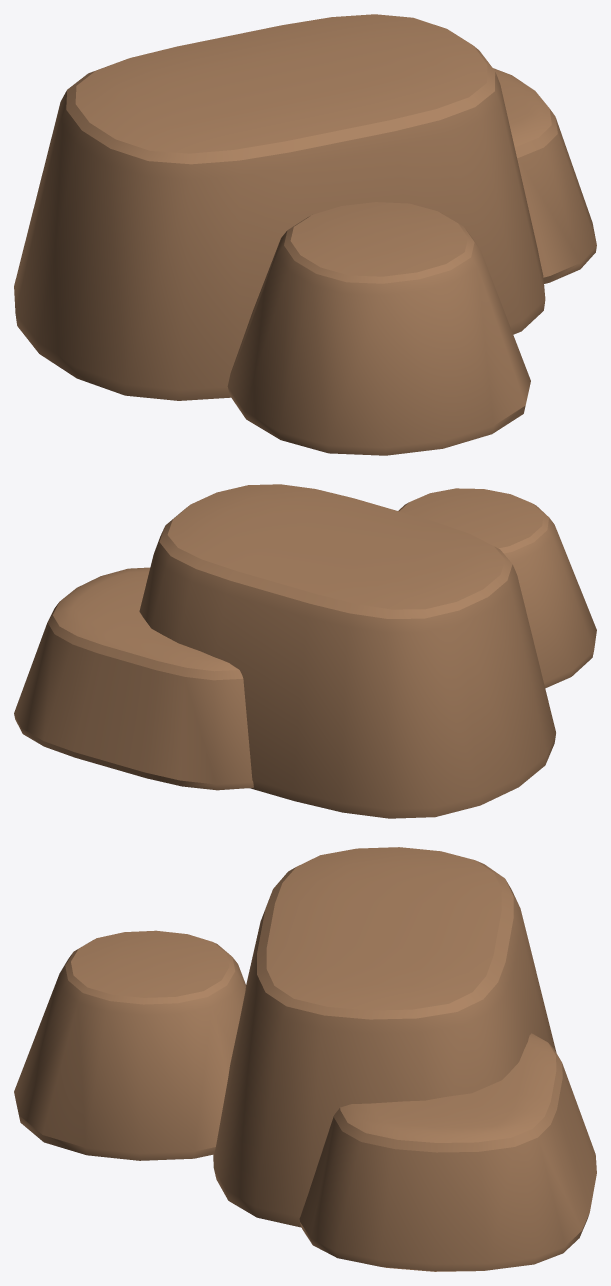
The model's file is RockPlatforms_2.001.fbx.
The picture shows the model from 3 angles, top to bottom: view 1: azimuth 30°, elevation 25°; view 2: azimuth 150°, elevation 25°; view 3: azimuth 270°, elevation 25°; orthographic projection. The views are drawn at different scales.
Parts seen in each view (by area): view 1: RockPlatforms_2.001; view 2: RockPlatforms_2.001; view 3: RockPlatforms_2.001.
Part boxes in pixels (x1=…): RockPlatforms_2.001: x1=14, y1=14, x2=596, y2=455; RockPlatforms_2.001: x1=14, y1=484, x2=596, y2=818; RockPlatforms_2.001: x1=14, y1=847, x2=596, y2=1271.
Bounding box in the file's own units: 685 × 284 × 690.
